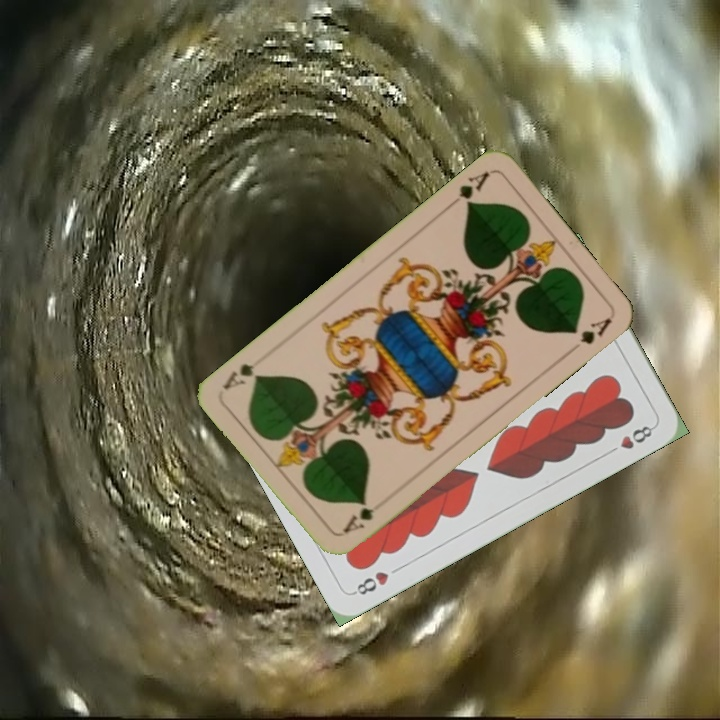GA: (443, 167, 492, 211), (335, 498, 377, 537)
H8: (349, 567, 392, 598)
